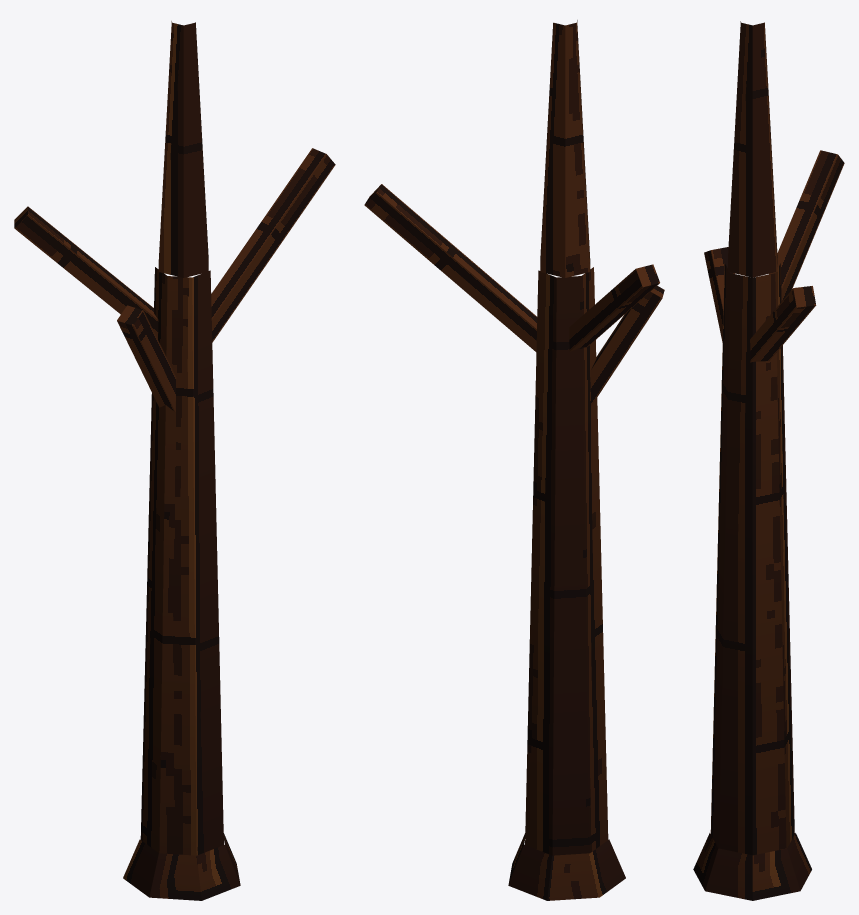
Rendered from birch_3_trunk.glb.
The picture shows the model from 3 angles, left to right: view 1: azimuth 30°, elevation 25°; view 2: azimuth 150°, elevation 25°; view 3: azimuth 270°, elevation 25°; orthographic projection.
Parts seen in each view (by area): view 1: birch_3_trunk; view 2: birch_3_trunk; view 3: birch_3_trunk.
Boxes of the visible parts, x1=… form: birch_3_trunk: x1=14, y1=21, x2=335, y2=900; birch_3_trunk: x1=364, y1=20, x2=664, y2=900; birch_3_trunk: x1=693, y1=21, x2=844, y2=900.
Bounding box in the file's own units: 2.08 × 5.57 × 0.8931.
1 material, 1 textured.
